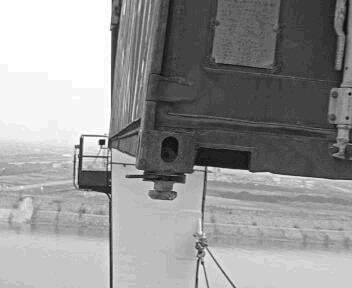twist_lock_1: (136, 167, 191, 208)
